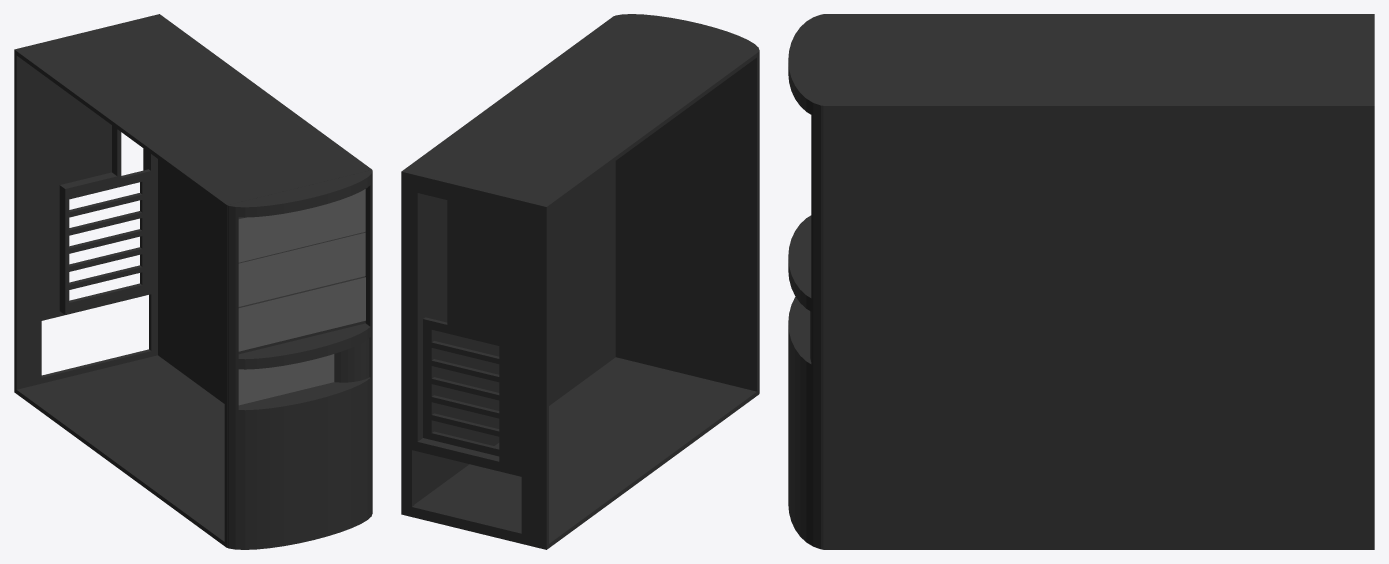
Rendered from RetroCase.fbx.
3 views of the same model, side by side, from view 1: azimuth 30°, elevation 25°; view 2: azimuth 150°, elevation 25°; view 3: azimuth 270°, elevation 25° (orthographic). The views are drawn at different scales.
Visible parts, largest first — view 1: Case_ATX_Black_; view 2: Case_ATX_Black_; view 3: Case_ATX_Black_.
Boxes of the visible parts, x1=… form: Case_ATX_Black_: x1=14, y1=14, x2=372, y2=549; Case_ATX_Black_: x1=401, y1=14, x2=759, y2=549; Case_ATX_Black_: x1=788, y1=14, x2=1374, y2=549.
Bounding box in the file's own units: 177 × 400 × 479.
1 material, 1 textured.
